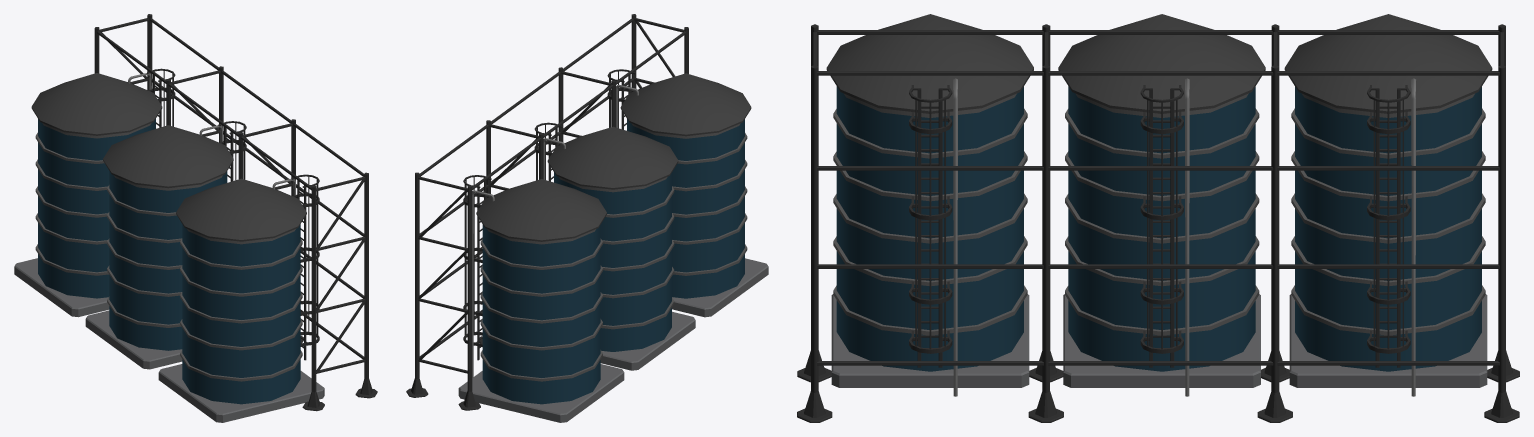
Rendered from farmstractures_20.glb.
3 views of the same model, side by side, from view 1: azimuth 30°, elevation 25°; view 2: azimuth 150°, elevation 25°; view 3: azimuth 270°, elevation 25° (orthographic). The views are drawn at different scales.
Parts seen in each view (by area): view 1: farmstractures_20; view 2: farmstractures_20; view 3: farmstractures_20.
Part boxes in pixels (box(x1,y1,x2,y2)): farmstractures_20: box(14, 14, 377, 422); farmstractures_20: box(406, 14, 768, 422); farmstractures_20: box(797, 14, 1519, 422).
Bounding box in the file's own units: 4.92 × 6.7 × 12.54.
Materials: 1 (1 with a texture image).
